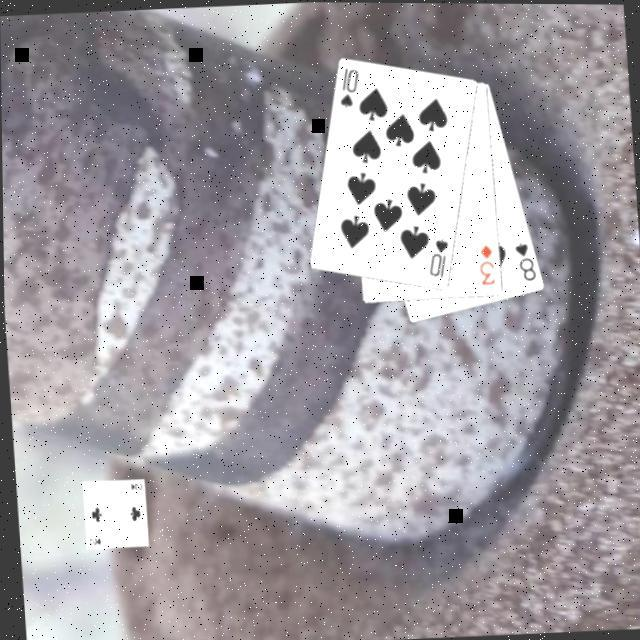10S: (421, 236, 452, 284), (332, 66, 362, 113)
3D: (472, 242, 496, 290)
8S: (509, 240, 536, 286)
